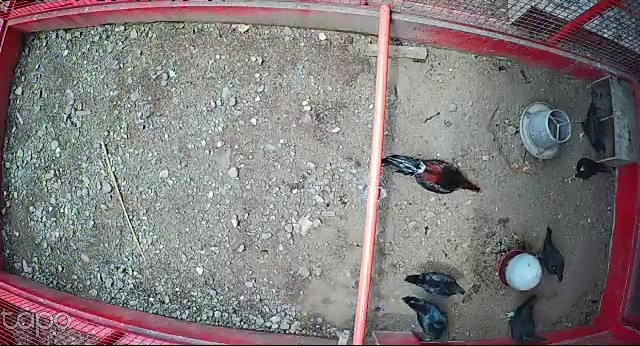Chicken: (399, 290, 449, 340), (502, 294, 550, 345), (533, 222, 568, 285), (575, 98, 609, 156), (403, 269, 470, 297), (563, 154, 616, 186)
Drinker: (497, 249, 542, 292)
Feeder: (520, 101, 575, 161)
Leg_Band_Green: (507, 310, 516, 321)
Leg_Band_White: (579, 132, 584, 143)
Rooster: (382, 150, 482, 195)
